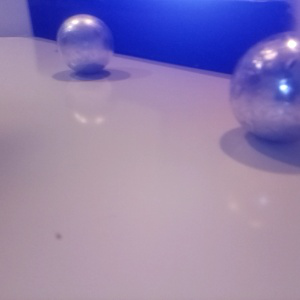alive_ball: (230, 28, 300, 143), (58, 15, 112, 74)
